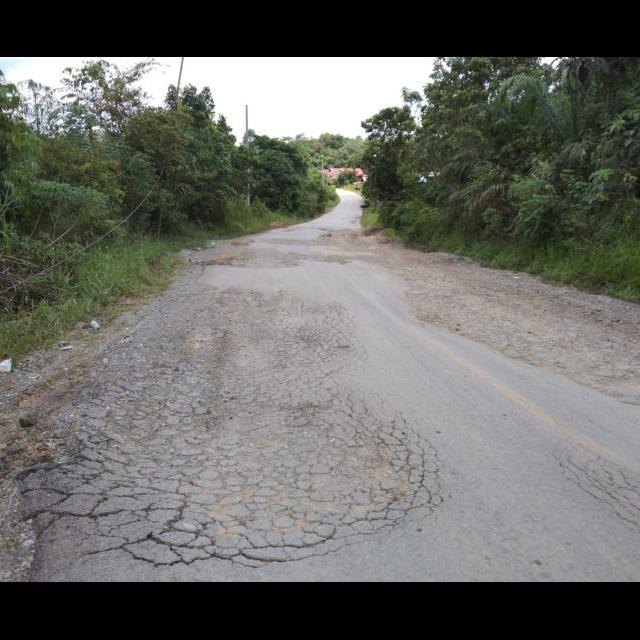retak_kulit_buaya: (89, 350, 433, 564), (568, 450, 640, 554)
